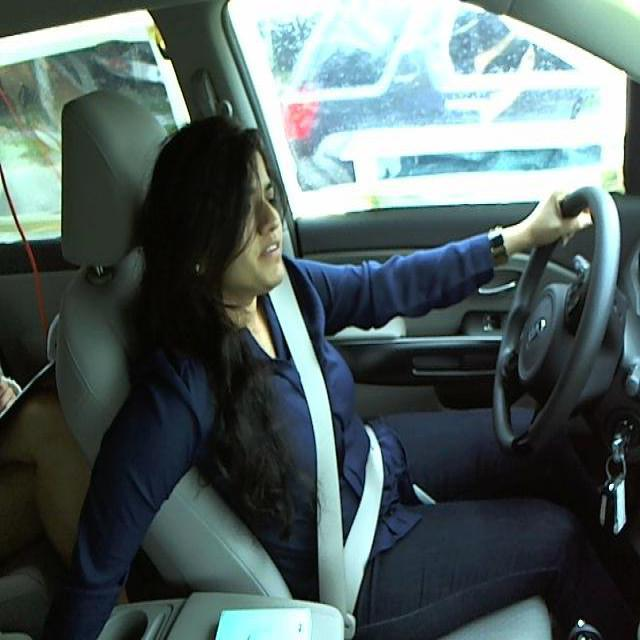seatbelt: (264, 289, 384, 600)
